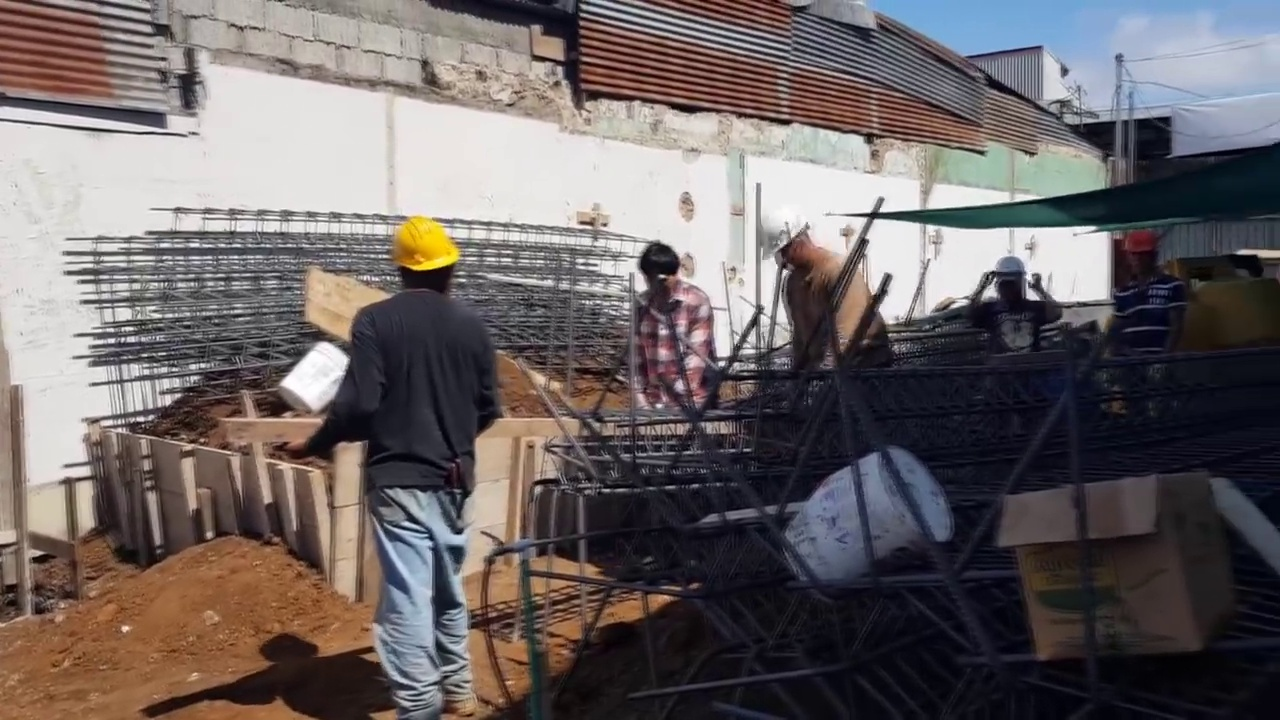helmet: (384, 219, 462, 278), (759, 214, 810, 262), (1120, 232, 1157, 254), (989, 258, 1028, 278)
helmet-off: (636, 244, 682, 304)
helmet-on: (382, 219, 464, 303), (759, 215, 829, 278), (988, 253, 1029, 303), (1120, 234, 1160, 278)
person: (265, 204, 497, 701), (740, 201, 867, 375), (632, 248, 722, 425), (1112, 233, 1193, 402), (977, 254, 1056, 355)
